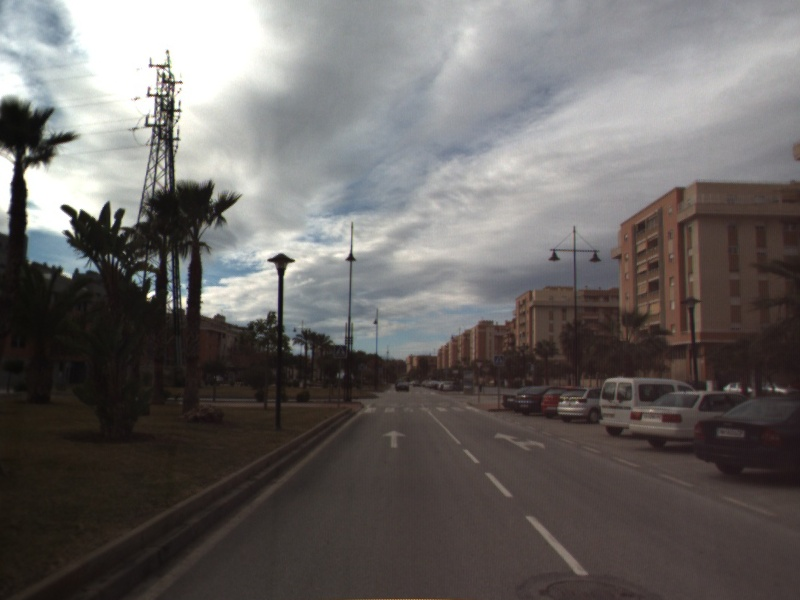STRAIGHT: (381, 428, 408, 450)
STRAIGHT_RIGHT: (492, 430, 546, 452)
